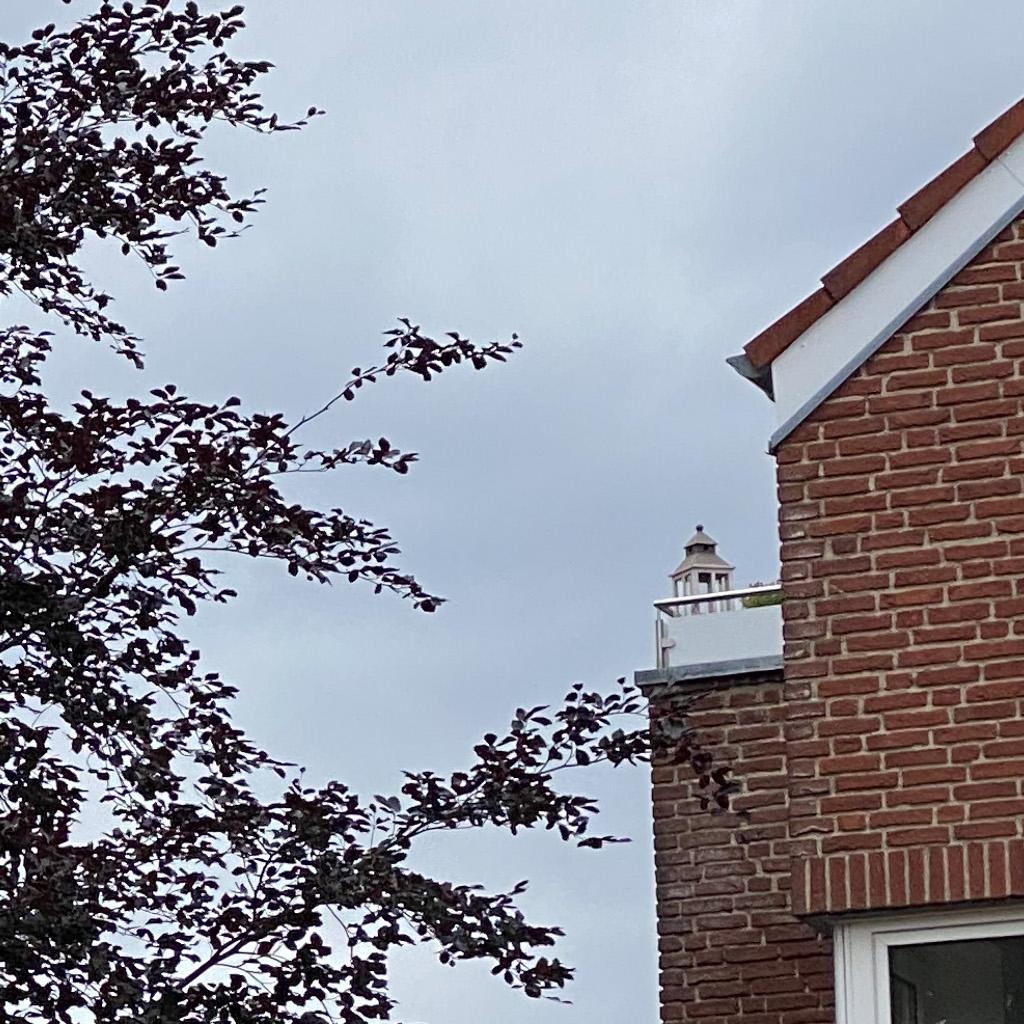tree: (1, 1, 753, 1024)
